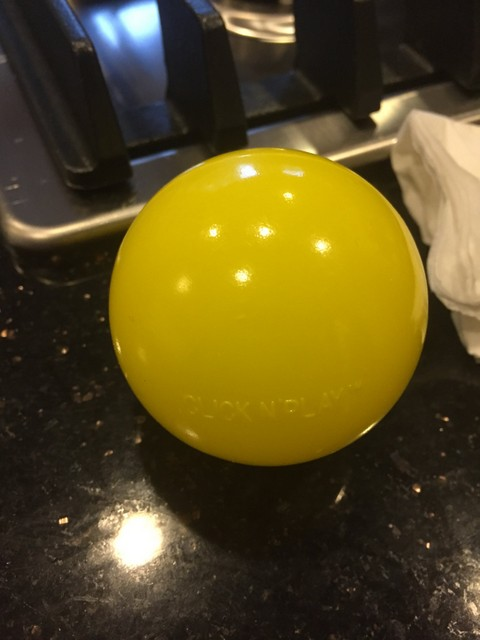ball: (110, 146, 430, 464)
